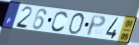2: (15, 6, 33, 30)
4: (105, 18, 120, 40)
6: (31, 8, 48, 31)
C: (50, 10, 70, 33)
O: (67, 12, 86, 35)
P: (86, 14, 107, 38)
